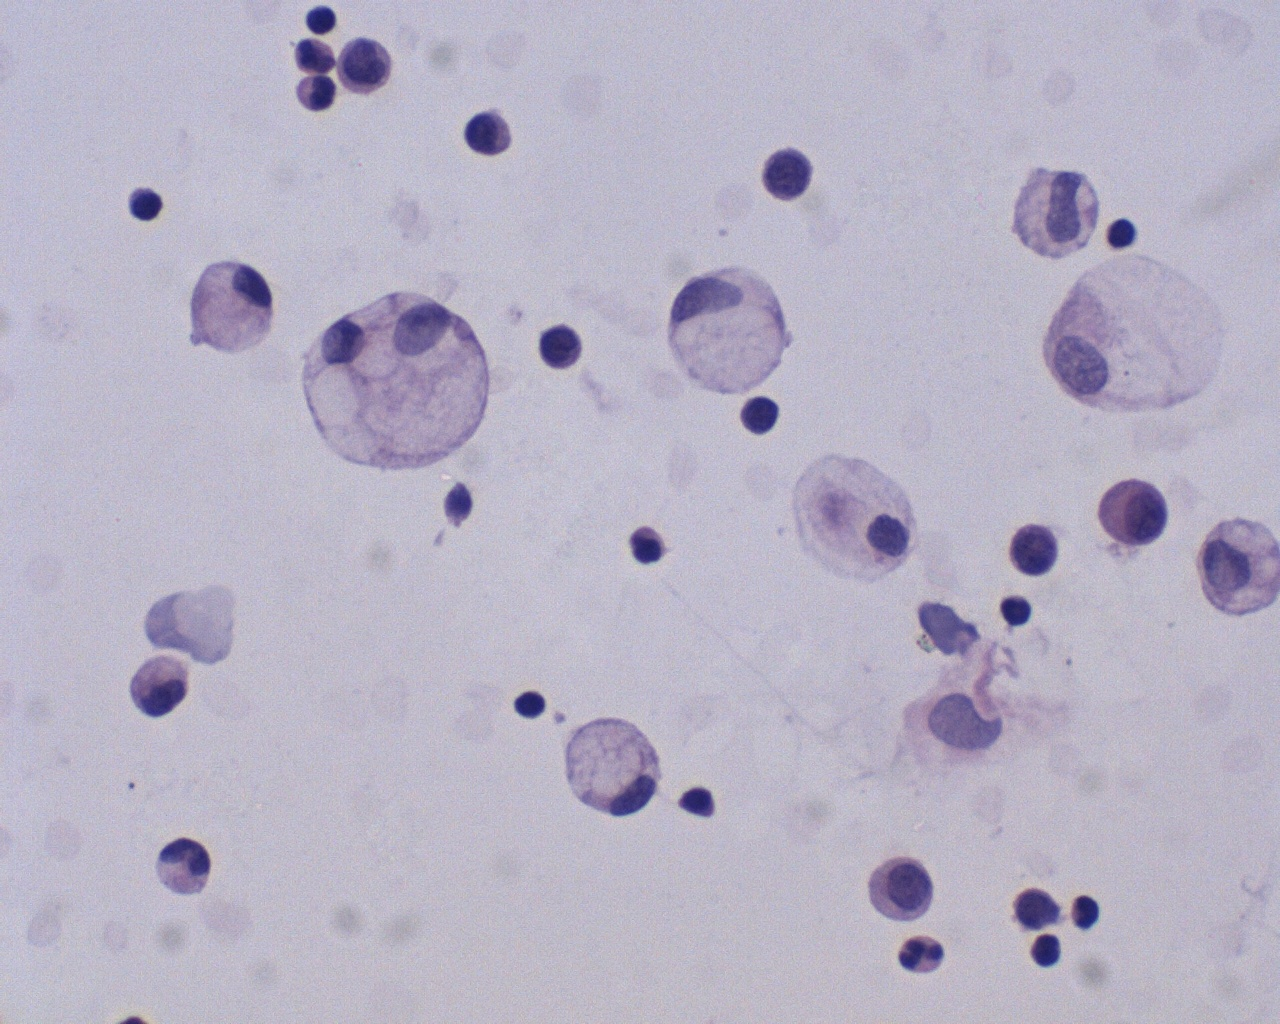ab: (995, 515, 1065, 581), (333, 33, 400, 99), (754, 140, 819, 203)
histo: (295, 279, 496, 478), (1043, 253, 1235, 427), (657, 262, 814, 399), (789, 445, 927, 586), (561, 709, 666, 824), (1190, 509, 1280, 620)
lymph: (510, 685, 558, 724), (1024, 934, 1070, 974), (124, 180, 163, 225), (1101, 216, 1145, 249)
meso: (171, 250, 288, 355), (1093, 467, 1178, 556), (860, 852, 942, 925)
neutro: (894, 924, 951, 982), (622, 515, 675, 571)
